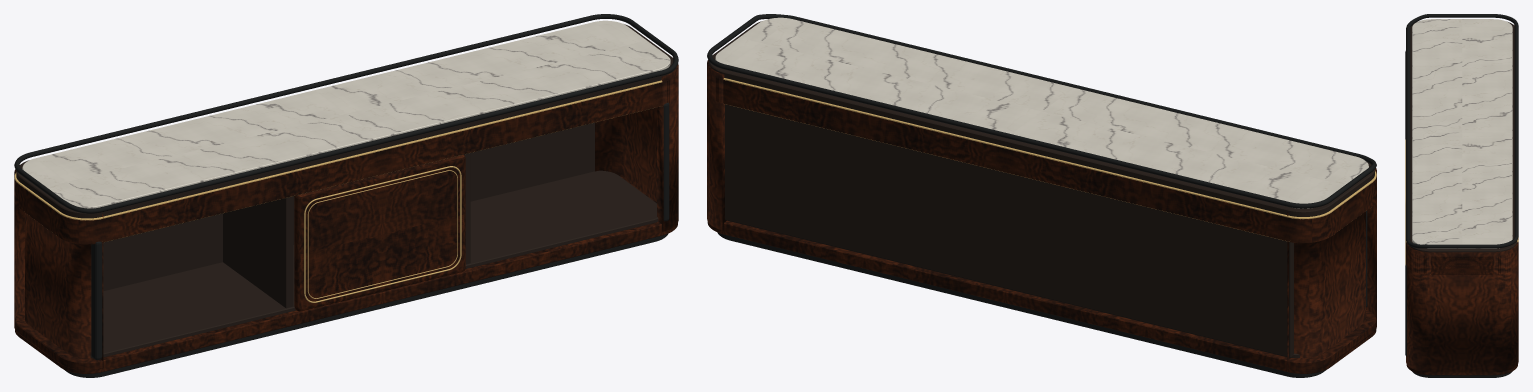
The picture shows the model from 3 angles, left to right: view 1: azimuth 30°, elevation 25°; view 2: azimuth 150°, elevation 25°; view 3: azimuth 270°, elevation 25°; orthographic projection. The views are drawn at different scales.
Visible parts, largest first — view 1: Madison TV furniture | salon-7 web batch; view 2: Madison TV furniture | salon-7 web batch; view 3: Madison TV furniture | salon-7 web batch.
Boxes of the visible parts, x1,y1,x2,y2 form: Madison TV furniture | salon-7 web batch: (14,14,678,377); Madison TV furniture | salon-7 web batch: (707,14,1376,377); Madison TV furniture | salon-7 web batch: (1405,14,1518,377).
Size of the model in its own units: 2.2 by 0.6 by 0.4525.
Materials: 6 (2 with a texture image).
